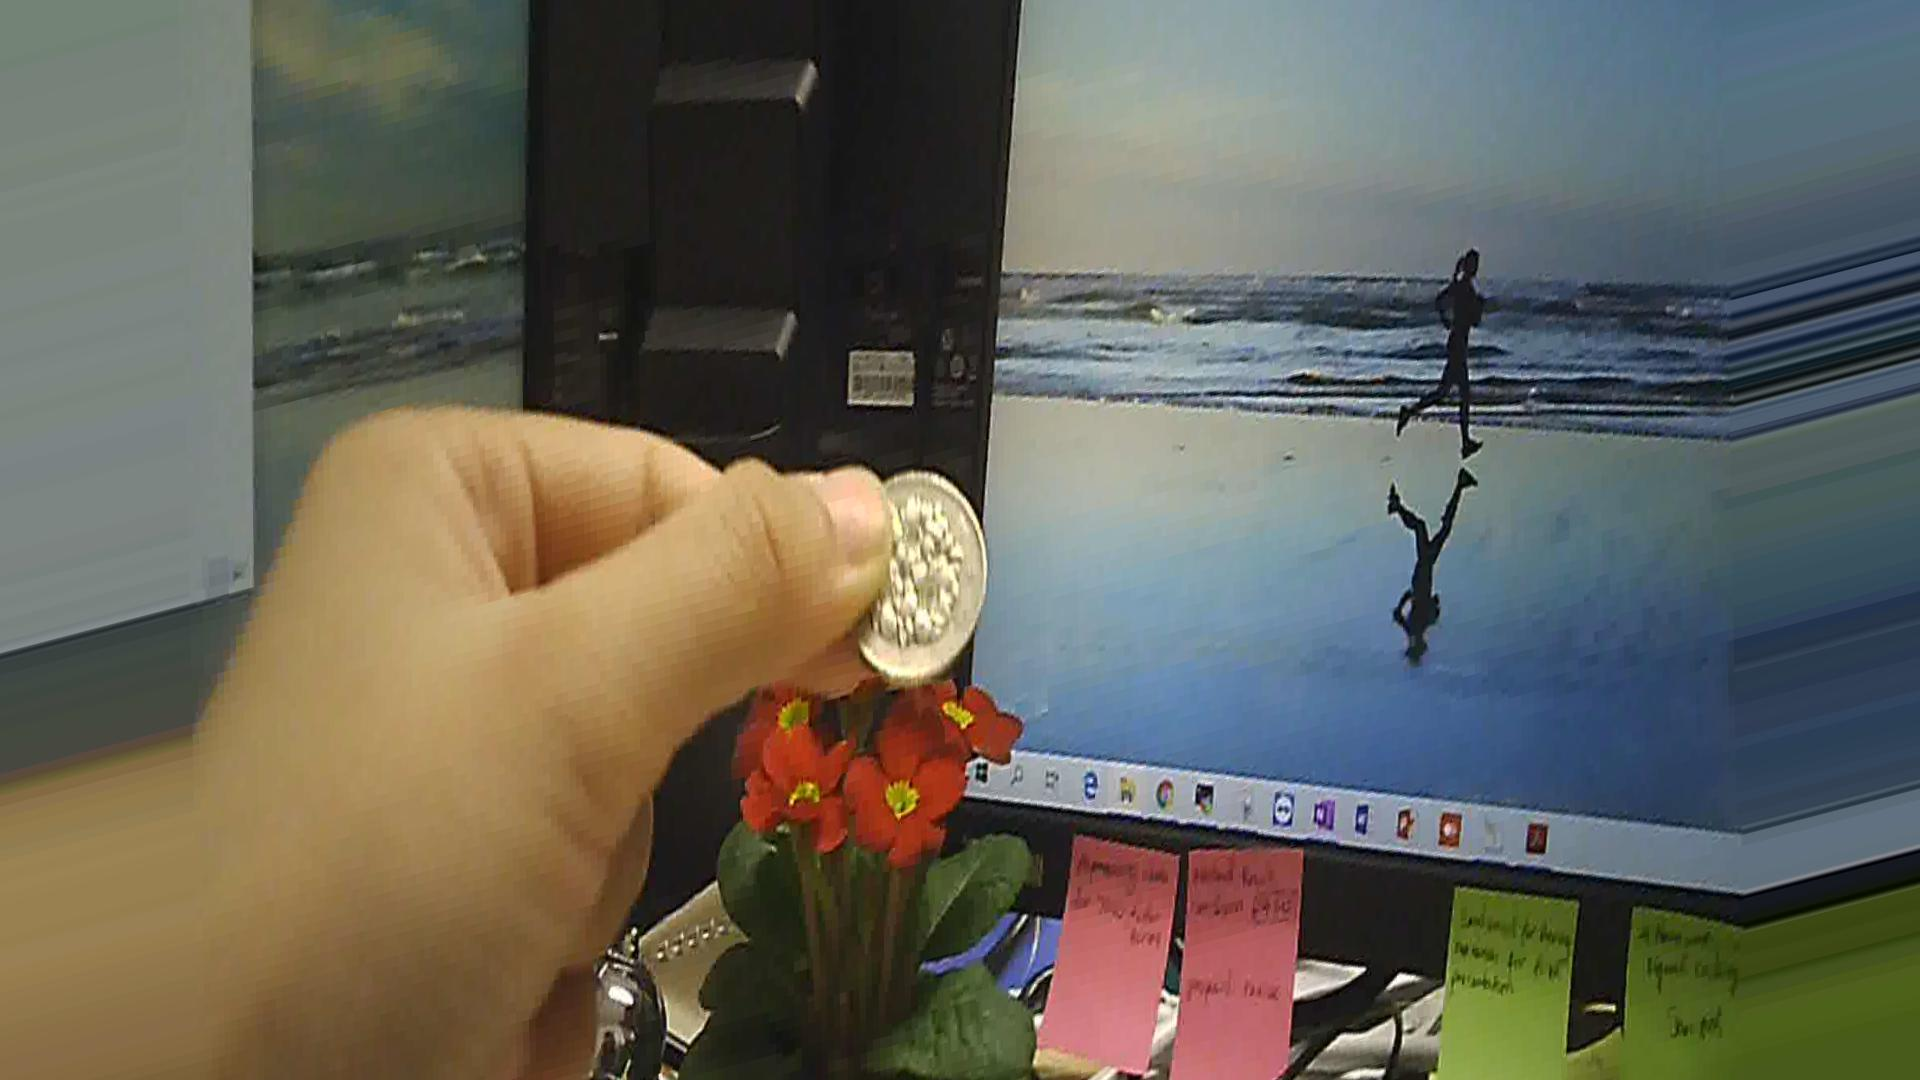100 Yen: (833, 462, 993, 686)
